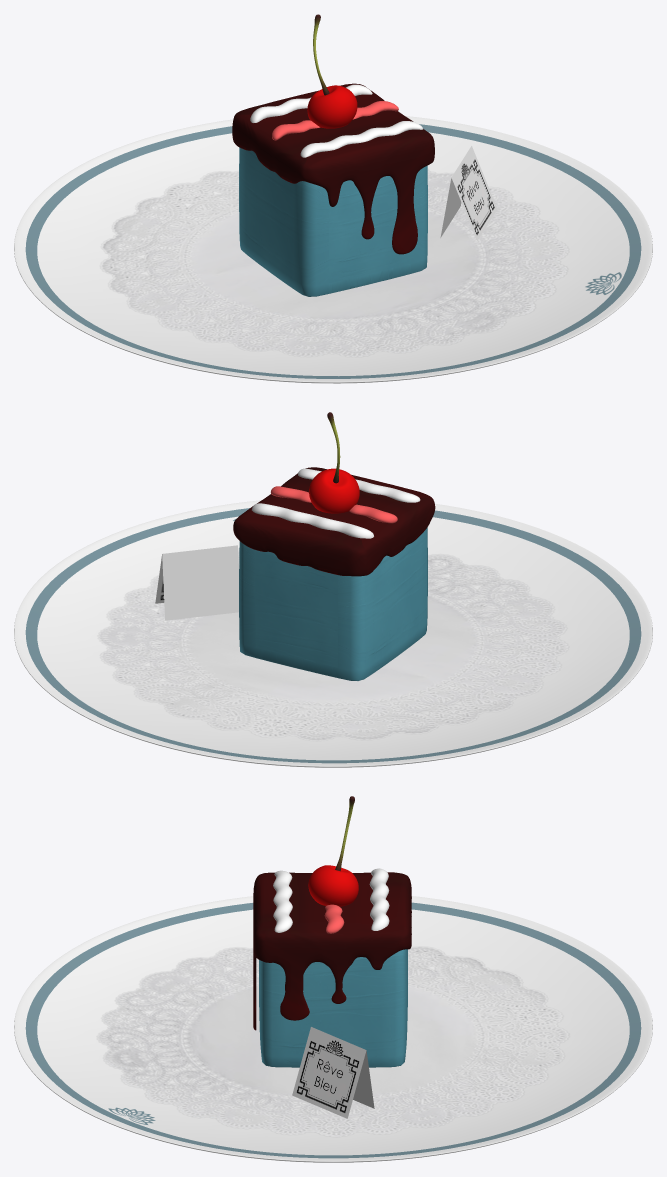
3 renders of one model, top to bottom at view 1: azimuth 30°, elevation 25°; view 2: azimuth 150°, elevation 25°; view 3: azimuth 270°, elevation 25°, orthographic.
Visible parts, largest first — view 1: Plate, Doily, Cake, Frosting, pCube6, pCube5, pCube3, pCube1, pCube2; view 2: Plate, Doily, Cake, Frosting, pCube6, pCube5, pCube2, pCube1, pCube3; view 3: Plate, Doily, Frosting, Cake, pCube6, pCube5, pCube2, pCube3.
Part boxes in pixels (x1,y1,x2,y2): Plate: (14, 116, 652, 383); Doily: (100, 169, 568, 357); Cake: (239, 147, 427, 296); Frosting: (232, 83, 434, 254); pCube6: (440, 146, 497, 240); pCube5: (307, 14, 357, 128); pCube3: (300, 121, 423, 157); pCube1: (272, 101, 398, 140); pCube2: (250, 84, 372, 122); Plate: (14, 500, 652, 767); Doily: (97, 551, 568, 741); Cake: (239, 527, 427, 680); Frosting: (233, 467, 435, 576); pCube6: (155, 545, 238, 620); pCube5: (309, 412, 359, 513); pCube2: (252, 503, 373, 538); pCube1: (270, 486, 397, 523); pCube3: (298, 468, 420, 502); Plate: (14, 896, 652, 1162); Doily: (97, 946, 569, 1137); Frosting: (253, 872, 411, 1030); Cake: (259, 949, 407, 1067); pCube6: (292, 1027, 374, 1118); pCube5: (308, 796, 358, 906); pCube2: (369, 868, 389, 930); pCube3: (273, 870, 292, 932).
Size of the model in its own units: 0.0426 by 0.0193 by 0.0426.
10 materials, 10 textured.
